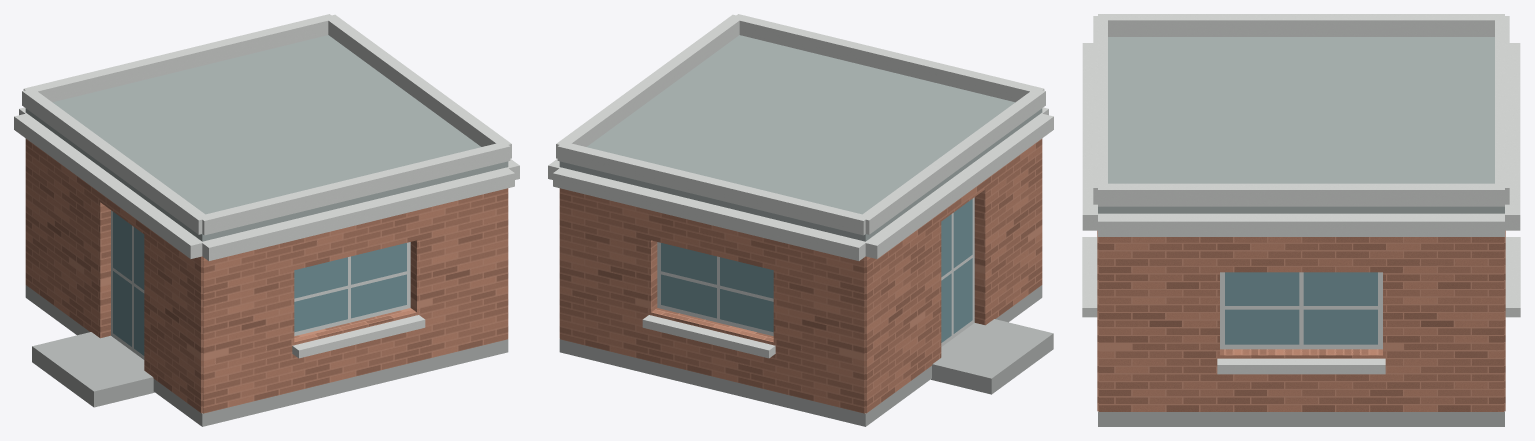
3 renders of one model, left to right at view 1: azimuth 30°, elevation 25°; view 2: azimuth 150°, elevation 25°; view 3: azimuth 270°, elevation 25°, orthographic. The views are drawn at different scales.
Parts seen in each view (by area): view 1: guard__special-brick, guard__special-roof, guard__special-white, guard__special-glass, guard__threshold-west, guard__special-stone, guard__special-frame; view 2: guard__special-brick, guard__special-roof, guard__special-white, guard__special-glass, guard__threshold-west, guard__special-stone, guard__special-frame; view 3: guard__special-roof, guard__special-brick, guard__special-white, guard__special-glass, guard__special-stone, guard__special-frame.
Part boxes in pixels (x1,y1,x2,y2): guard__special-brick: (25,138,508,413); guard__special-roof: (25,35,508,241); guard__special-white: (14,14,519,358); guard__special-glass: (113,212,406,355); guard__threshold-west: (32,332,154,407); guard__special-stone: (25,285,508,426); guard__special-frame: (111,210,410,359); guard__special-brick: (559,138,1042,413); guard__special-roof: (559,35,1042,241); guard__special-white: (548,14,1053,358); guard__special-glass: (661,199,972,342); guard__threshold-west: (931,319,1053,394); guard__special-stone: (559,285,1042,426); guard__special-frame: (657,197,974,346); guard__special-roof: (1098,37,1504,213); guard__special-brick: (1097,230,1505,411); guard__special-white: (1082,14,1520,374); guard__special-glass: (1225,272,1377,344); guard__special-stone: (1098,411,1504,426); guard__special-frame: (1220,272,1382,349).
Bounding box in the file's own units: 7.4 × 3.92 × 6.46.
Materials: 6 (2 with a texture image).
